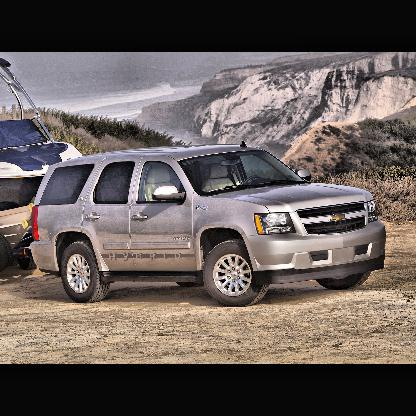Chevrolet Tahoe Hybrid SUV 2012: (29, 140, 387, 309)
